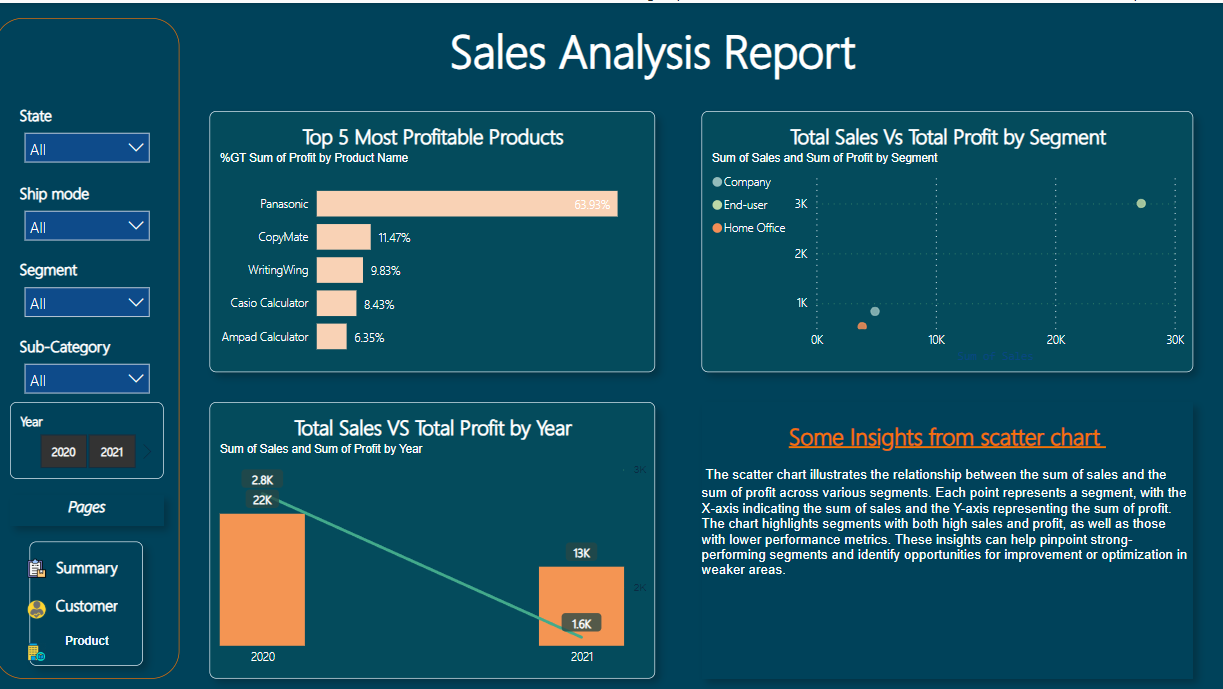

The page's visual inventory and layout, read from the dashboard file:
{"tool":"powerbi","page":{"name":"Product ","canvas":[1280,720],"ordinal":3},"visuals":[{"type":"textbox","box":[0,16,192,688],"z":0},{"type":"slicer","title":"State","fields":{"Values":["Souce-File.City"]},"box":[16,96,160,80],"z":1000},{"type":"slicer","title":"Segment","fields":{"Values":["Souce-File.Segment"]},"box":[16,256,160,80],"z":2000},{"type":"slicer","title":"Ship mode ","fields":{"Values":["Souce-File.Ship Mode"]},"box":[16,176,160,80],"z":3000},{"type":"slicer","title":"Sub-Category","fields":{"Values":["Souce-File.Sub-Category"]},"box":[16,336,160,80],"z":4000},{"type":"textbox","box":[16,512,160,32],"z":5000},{"type":"slicer","title":"Year","fields":{"Values":["Souce-File.Dispatch Date.Variation.Date Hierarchy.Year"]},"box":[16,416,160,80],"z":6000},{"type":"lineStackedColumnComboChart","title":"Total  Sales VS Total Profit by Year","fields":{"Category":["Souce-File.Order Date.Variation.Date Hierarchy.Year","Souce-File.Order Date.Variation.Date Hierarchy.Quarter","Souce-File.Order Date.Variation.Date Hierarchy.Month","Souce-File.Order Date.Variation.Date Hierarchy.Day"],"Y":["Sum(Souce-File.Sales)"],"Y2":["Sum(Souce-File.Profit)"]},"box":[224,416,464,288],"z":7000},{"type":"barChart","title":"Top 5 Most Profitable Products ","fields":{"Category":["Souce-File.Product Name"],"Y":["Sum(Souce-File.Profit)"]},"box":[224,112,464,272],"z":8000},{"type":"textbox","box":[736,416,512,288],"z":9000},{"type":"scatterChart","title":"Total Sales Vs Total Profit by Segment","fields":{"X":["Sum(Souce-File.Sales)"],"Y":["Sum(Souce-File.Profit)"],"Series":["Souce-File.Segment"]},"box":[736,112,512,272],"z":10000},{"type":"pageNavigator","box":[36.2,560.3,118,129.1],"z":11000},{"type":"textbox","box":[224,16,1024,80],"z":12000},{"type":"image","box":[24,568,40,40],"z":14000},{"type":"image","box":[24,608,40,48],"z":15000},{"type":"image","box":[24,656,40,40],"z":16000}]}

Visuals, with their boxes in screenshot pixels (x1, y1, x2, y2), scaled from the page's 1280x720 canvas onto the 1223x689 screenshot:
textbox: locate(0, 15, 183, 674)
"State" slicer: locate(15, 92, 168, 168)
"Segment" slicer: locate(15, 245, 168, 322)
"Ship mode " slicer: locate(15, 168, 168, 245)
"Sub-Category" slicer: locate(15, 322, 168, 398)
textbox: locate(15, 490, 168, 521)
"Year" slicer: locate(15, 398, 168, 475)
"Total  Sales VS Total Profit by Year" lineStackedColumnComboChart: locate(214, 398, 657, 674)
"Top 5 Most Profitable Products " barChart: locate(214, 107, 657, 367)
textbox: locate(703, 398, 1192, 674)
"Total Sales Vs Total Profit by Segment" scatterChart: locate(703, 107, 1192, 367)
pageNavigator: locate(35, 536, 147, 660)
textbox: locate(214, 15, 1192, 92)
image: locate(23, 544, 61, 582)
image: locate(23, 582, 61, 628)
image: locate(23, 628, 61, 666)
